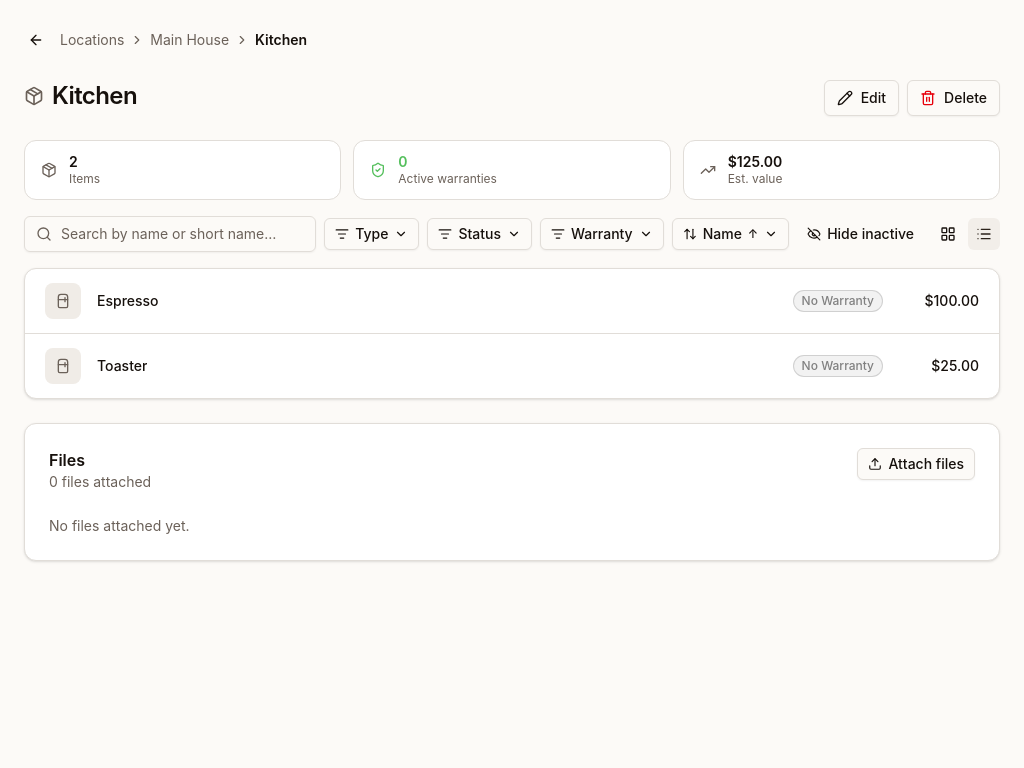
Test: <AreaDetailPage /> › swaps the items into a grid when the view-grid toggle is clicked
Expected: the element with test id "area-detail-items-list" is shown, [24,268,1000,398]
Click the button with test id "area-detail-items-view-grid" at (948, 234), box [932,218,964,250]
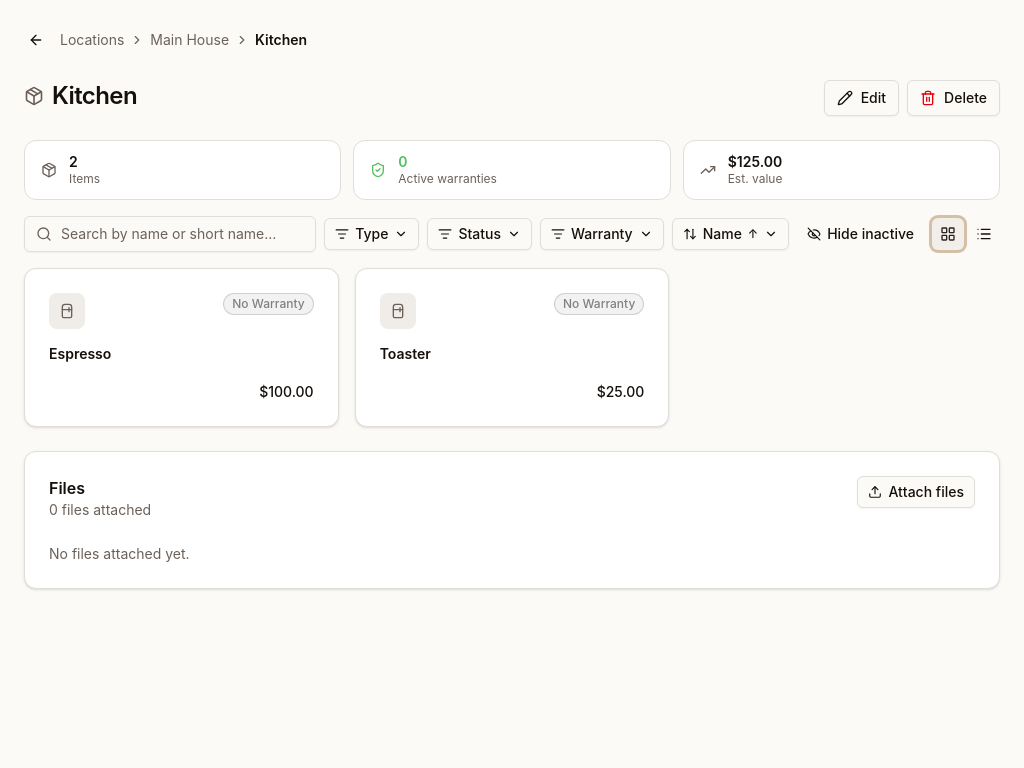
Expected: the number of links with test id "area-detail-items-card" is 2, [24,268,339,427]; [355,268,669,427]
Expected: the element with test id "area-detail-items-list" is gone
